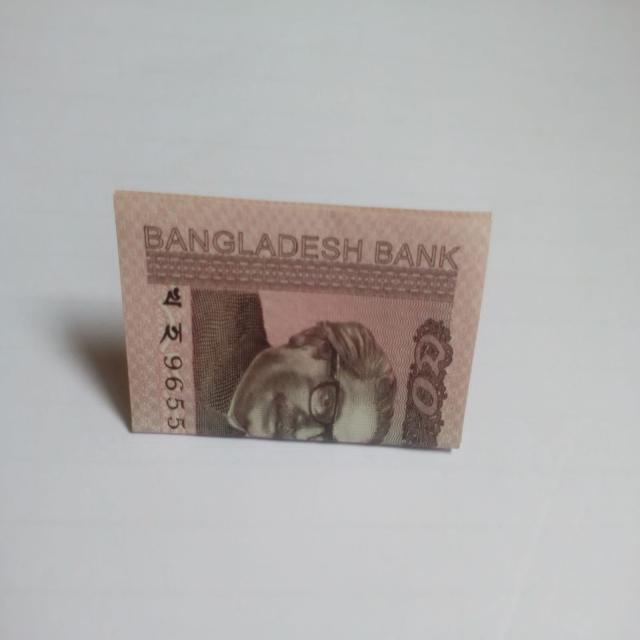Taka: (111, 169, 490, 467)
